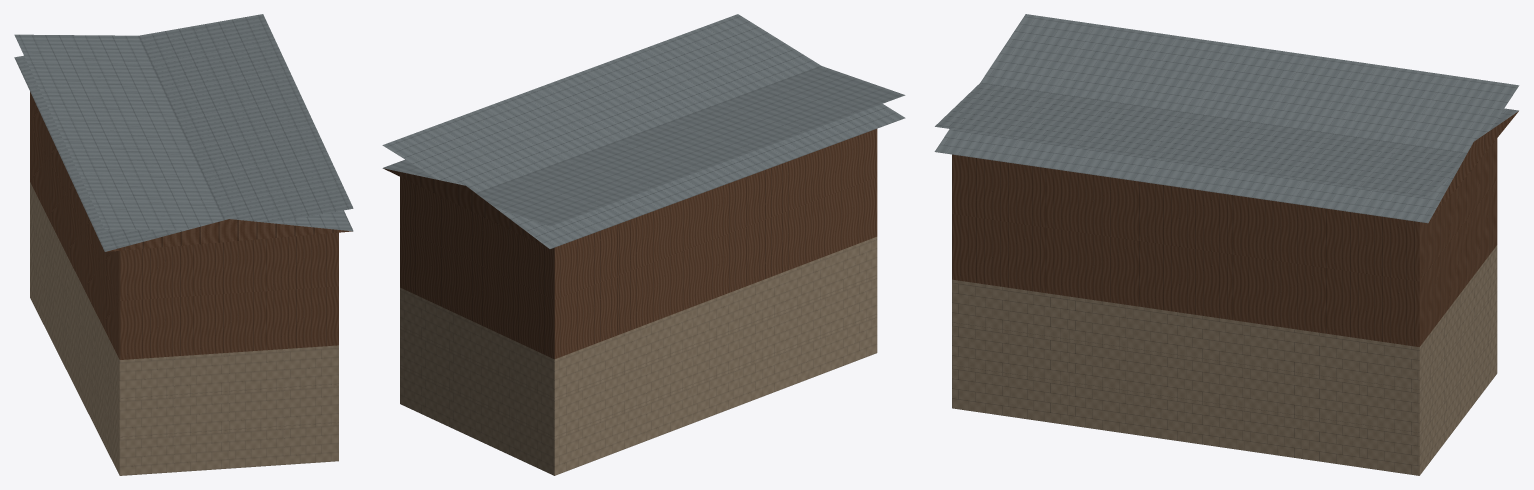
Rendered from bld_c10_42_504.gltf.
3 renders of one model, left to right at view 1: azimuth 30°, elevation 25°; view 2: azimuth 150°, elevation 25°; view 3: azimuth 270°, elevation 25°, orthographic. The views are drawn at different scales.
Visible parts, largest first — view 1: bld_c10_42_504; view 2: bld_c10_42_504; view 3: bld_c10_42_504.
Part boxes in pixels (left/top/right/bottom): bld_c10_42_504: left=14, top=14, right=353, bottom=475; bld_c10_42_504: left=382, top=14, right=905, bottom=475; bld_c10_42_504: left=934, top=14, right=1519, bottom=475.
Bounding box in the file's own units: 15.64 × 11.3 × 21.
4 materials, 4 textured.
